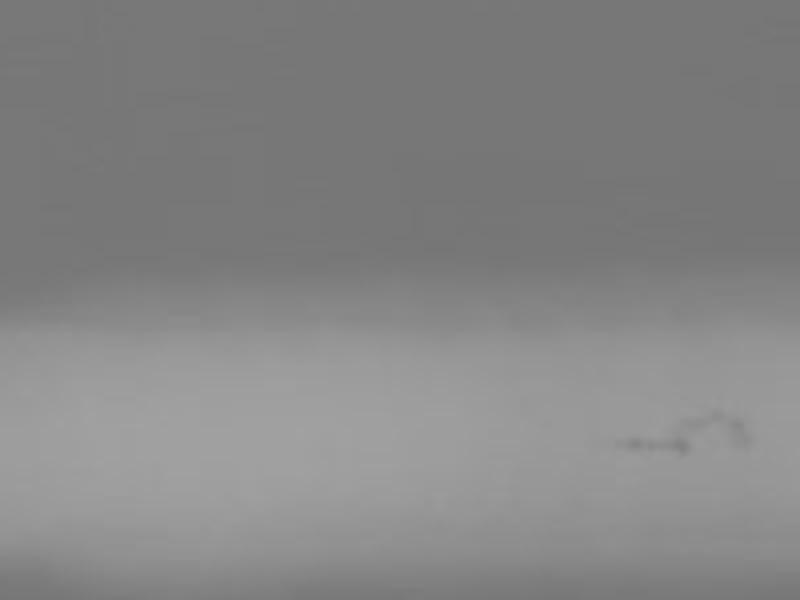defect: (626, 436, 665, 457), (725, 420, 747, 454), (680, 413, 705, 432), (670, 433, 689, 455), (704, 406, 723, 423)
